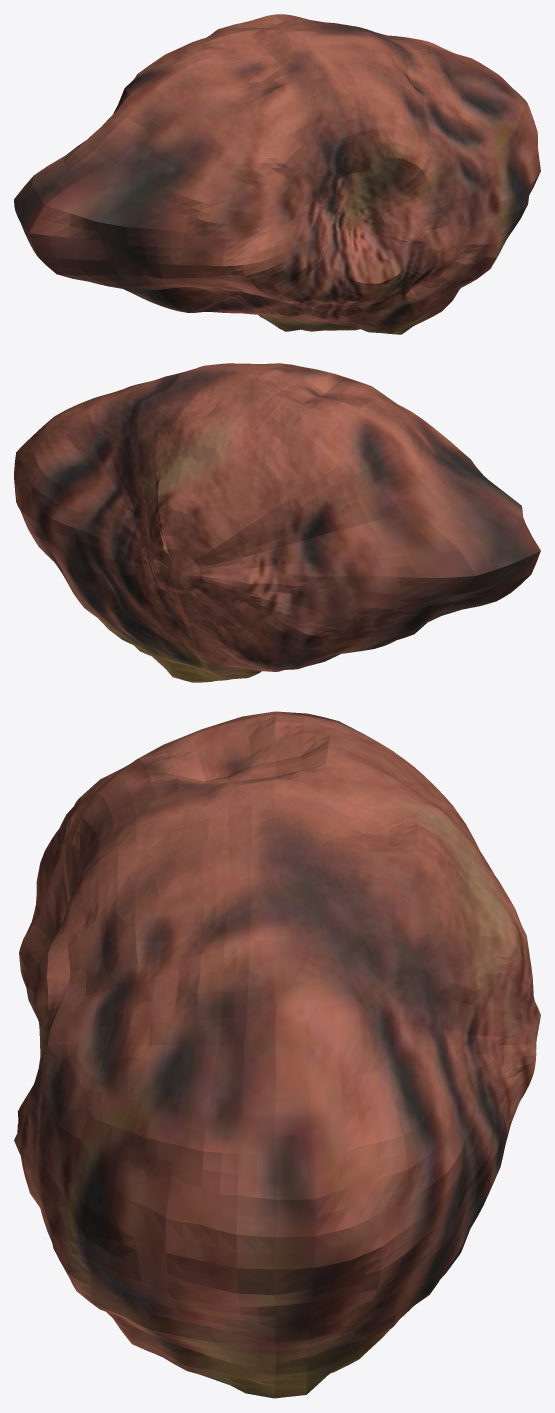
Rendered from Amalthea-Hi.fbx.
3 views of the same model, one above another, from view 1: azimuth 30°, elevation 25°; view 2: azimuth 150°, elevation 25°; view 3: azimuth 270°, elevation 25° (orthographic). The views are drawn at different scales.
Visible parts, largest first — view 1: Amalthea-Hi; view 2: Amalthea-Hi; view 3: Amalthea-Hi.
Part boxes in pixels (<box>): Amalthea-Hi: <box>14,14,540,334</box>; Amalthea-Hi: <box>14,363,540,682</box>; Amalthea-Hi: <box>14,711,540,1398</box>.
Size of the model in its own units: 26723 by 15743 by 13903.
